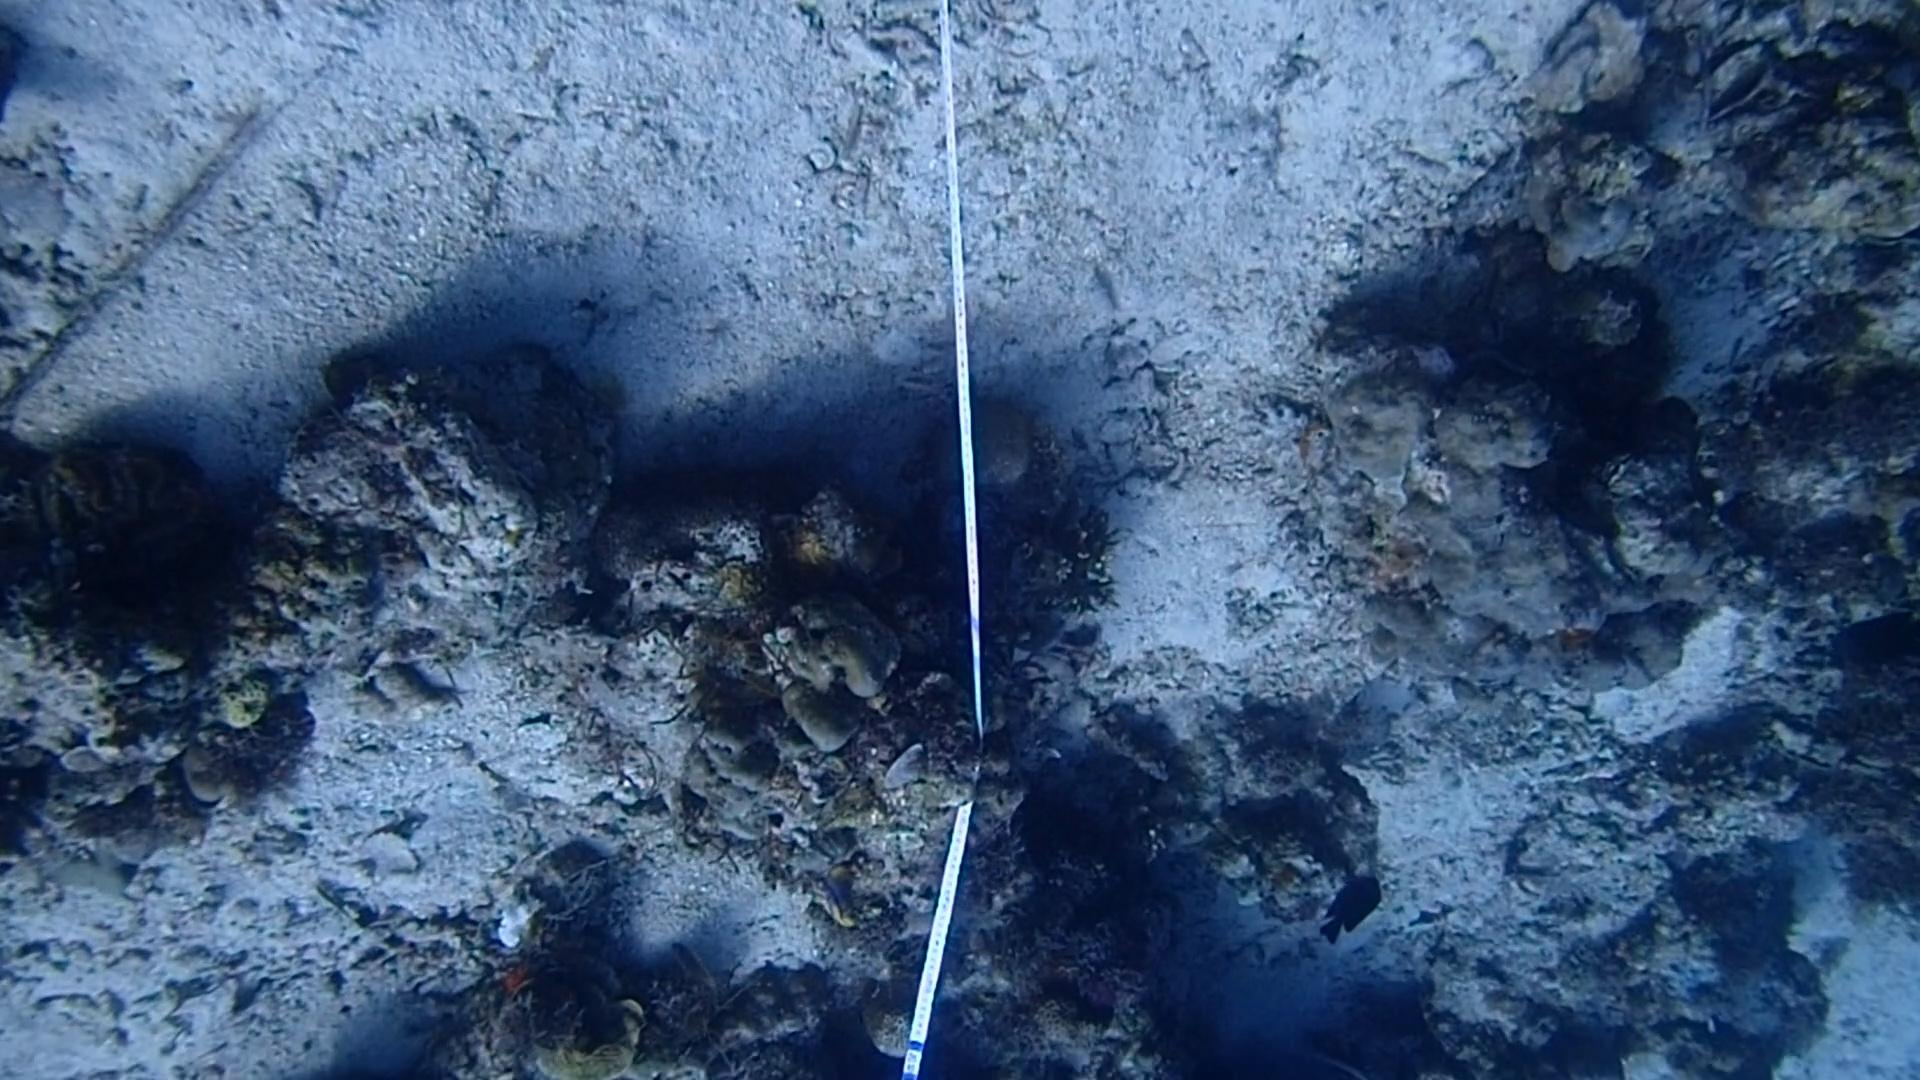Dark Fish: (1311, 868, 1391, 956), (1818, 605, 1920, 673)
Light Fish: (655, 934, 723, 1004)
